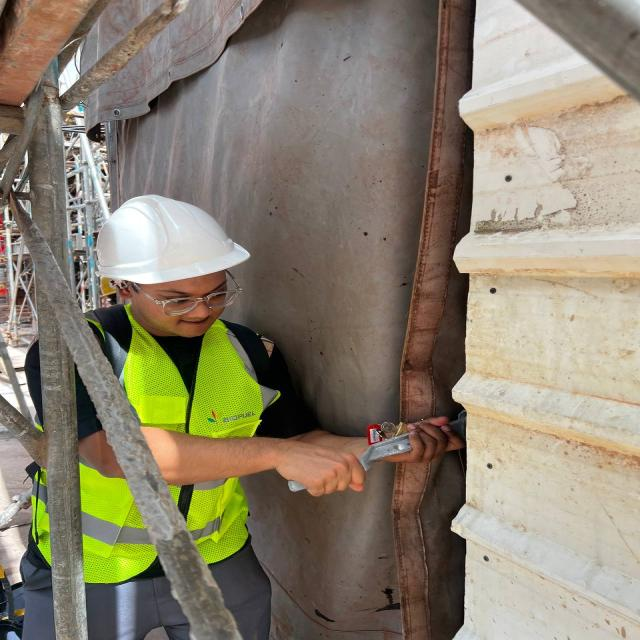helmet: (72, 193, 264, 280)
human: (19, 168, 464, 613)
vest: (82, 337, 258, 586)
